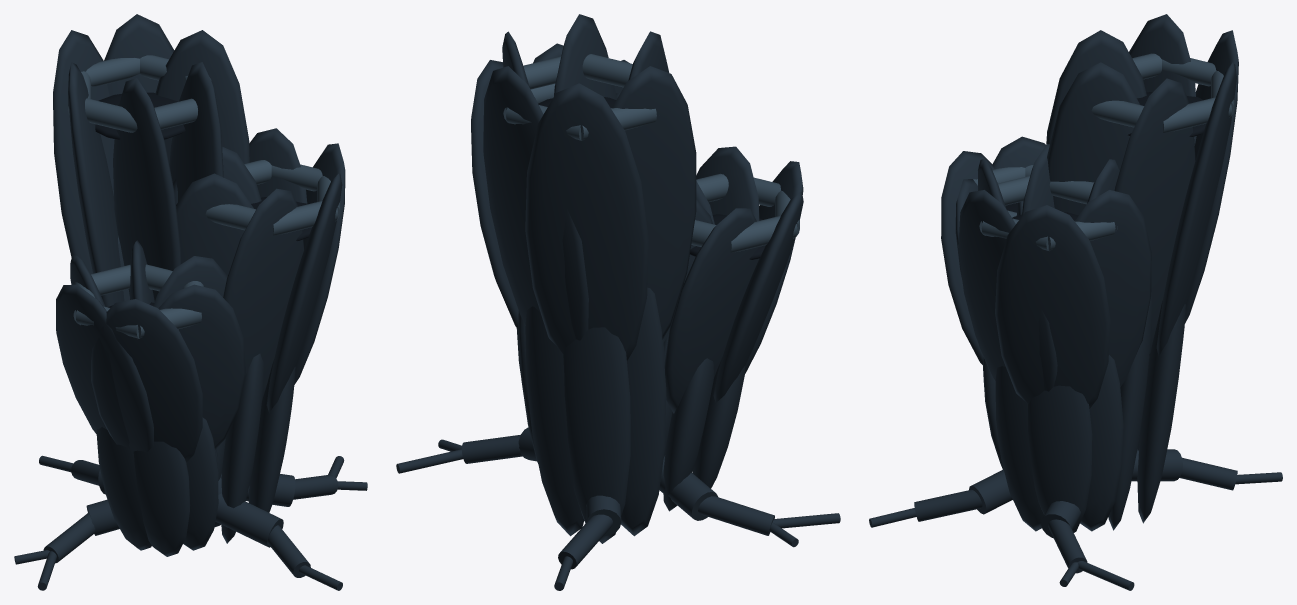
File: CMU3DHiveHiveClusterXenoConstructionNode.glb
The picture shows the model from 3 angles, left to right: view 1: azimuth 30°, elevation 25°; view 2: azimuth 150°, elevation 25°; view 3: azimuth 270°, elevation 25°; orthographic projection. The views are drawn at different scales.
Visible parts, largest first — view 1: flared chimney bell (×18), tapered chimney trunk (×5), rolled organic lip (×11), sinuous anchoring root (×7), recessed chimney throat; view 2: flared chimney bell (×11), tapered chimney trunk (×6), sinuous anchoring root (×7), rolled organic lip (×5); view 3: flared chimney bell (×15), tapered chimney trunk (×6), sinuous anchoring root (×7), rolled organic lip (×7).
Boxes of the visible parts, x1=… form: flared chimney bell (×18): x1=53, y1=14, x2=345, y2=462; tapered chimney trunk (×5): x1=96, y1=353, x2=295, y2=556; rolled organic lip (×11): x1=85, y1=55, x2=338, y2=338; sinuous anchoring root (×7): x1=43, y1=460, x2=338, y2=577; recessed chimney throat: x1=95, y1=92, x2=185, y2=139; flared chimney bell (×11): x1=471, y1=14, x2=803, y2=413; tapered chimney trunk (×6): x1=518, y1=287, x2=745, y2=543; sinuous anchoring root (×7): x1=396, y1=435, x2=840, y2=569; rolled organic lip (×5): x1=523, y1=54, x2=797, y2=252; flared chimney bell (×15): x1=941, y1=14, x2=1238, y2=408; tapered chimney trunk (×6): x1=983, y1=296, x2=1185, y2=532; sinuous anchoring root (×7): x1=914, y1=449, x2=1237, y2=590; rolled organic lip (×7): x1=998, y1=53, x2=1231, y2=250.
Size of the model in its own units: 1.07 by 1.32 by 1.06.
